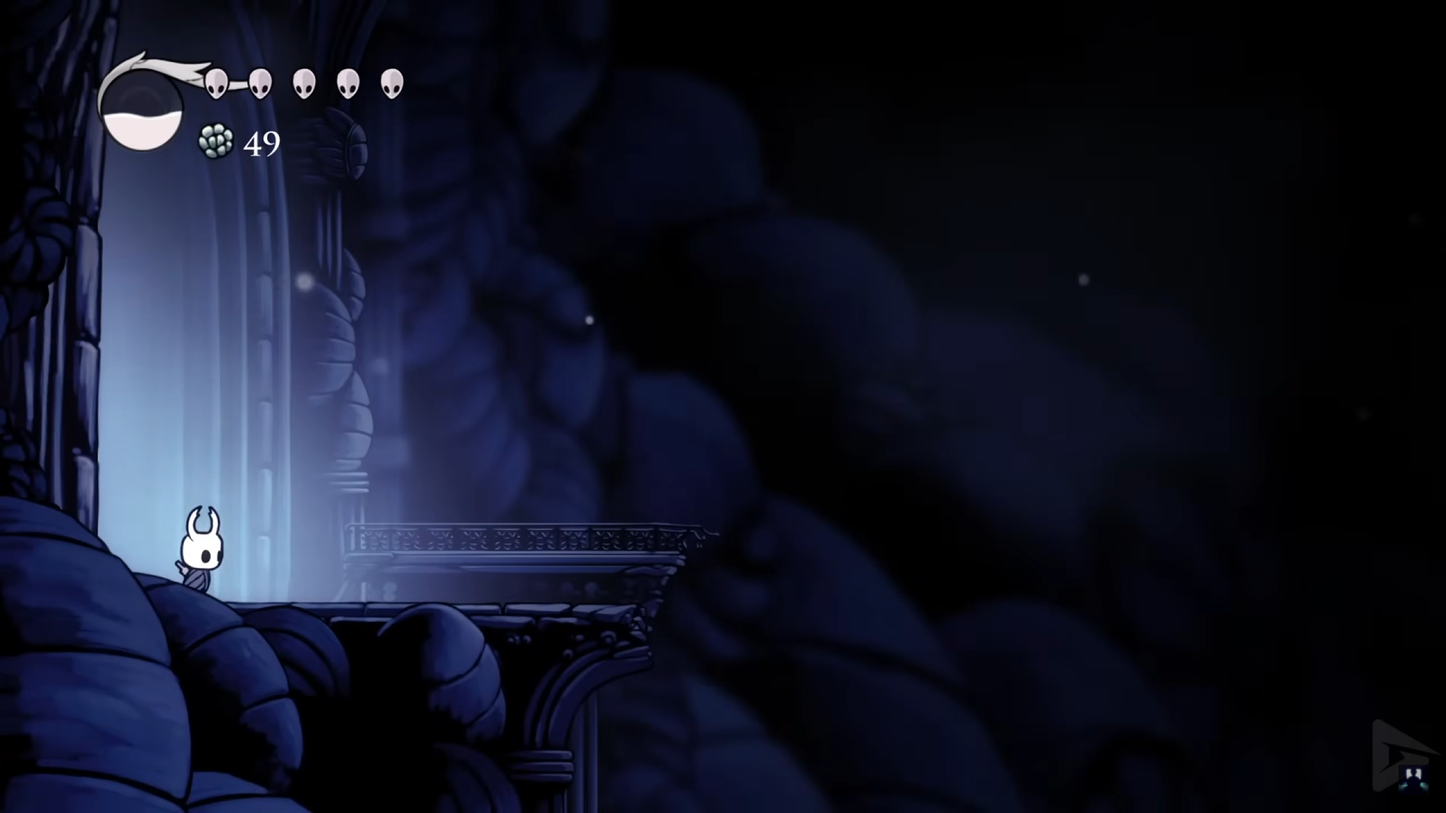HK: (168, 502, 230, 605)
